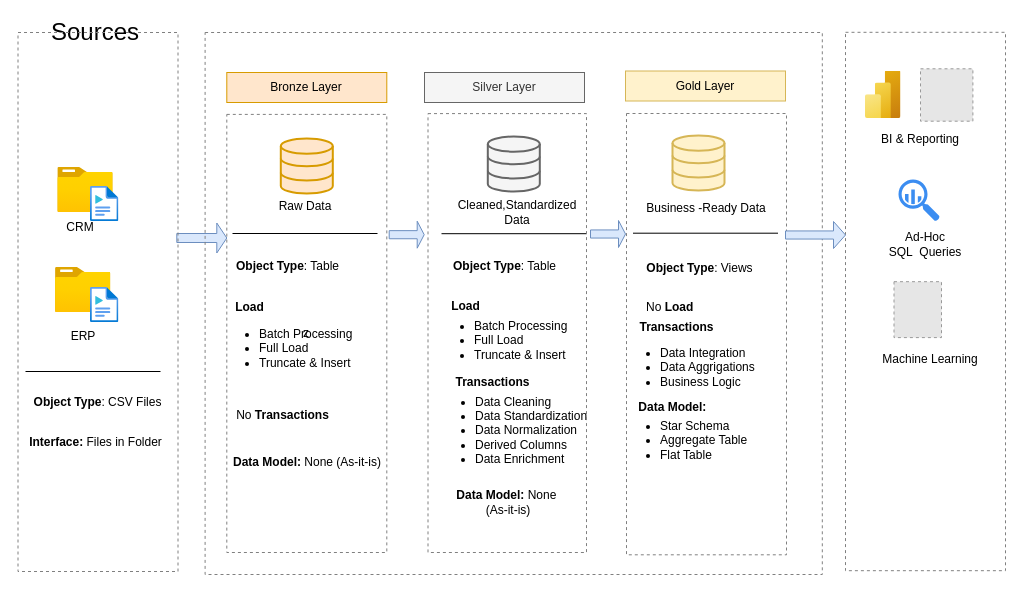
Image size: 1023x592. Some labels were removed from this diagram. Grey dashed boxes stand in for pictures. Here are the shapes that lost their labels. From the top down, the centre of each, then its label:
At [503,32]: "Data Warehouse".
At [925,32]: "Consumer".
